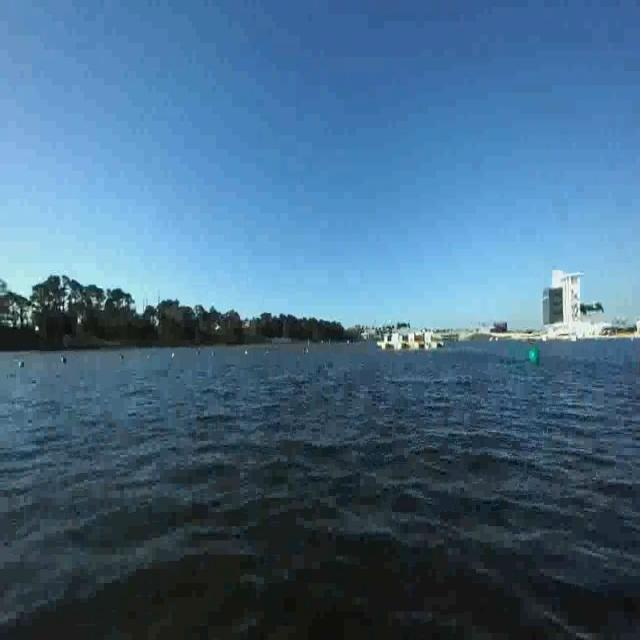green-buoy: (529, 344, 540, 365)
